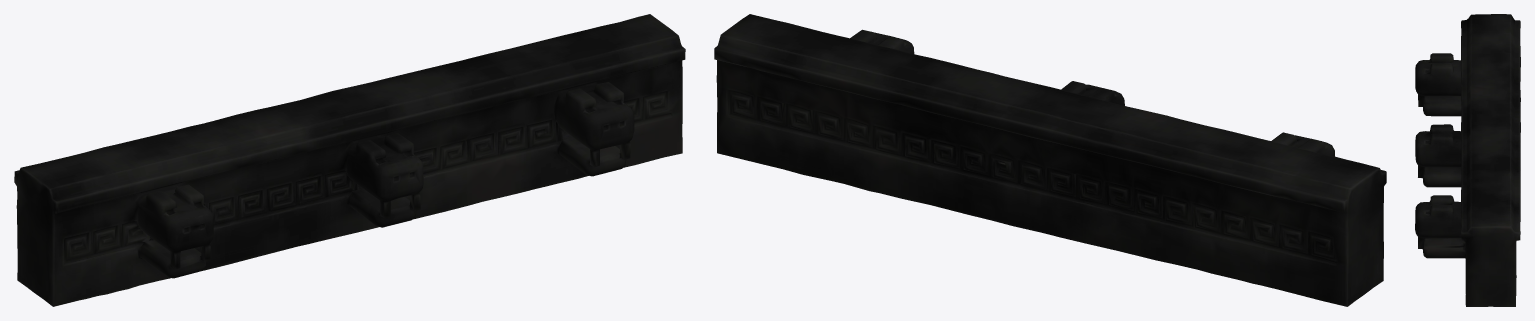
The model's file is serpent-wall-basalt.glb.
3 renders of one model, left to right at view 1: azimuth 30°, elevation 25°; view 2: azimuth 150°, elevation 25°; view 3: azimuth 270°, elevation 25°, orthographic. The views are drawn at different scales.
Visible parts, largest first — view 1: serpent_wall; view 2: serpent_wall; view 3: serpent_wall.
Boxes of the visible parts, <box> form: serpent_wall: <box>14,14,685,306</box>; serpent_wall: <box>714,14,1386,306</box>; serpent_wall: <box>1415,14,1520,306</box>.
Bounding box in the file's own units: 2 × 0.3537 × 0.4207.
Materials: 1 (1 with a texture image).
